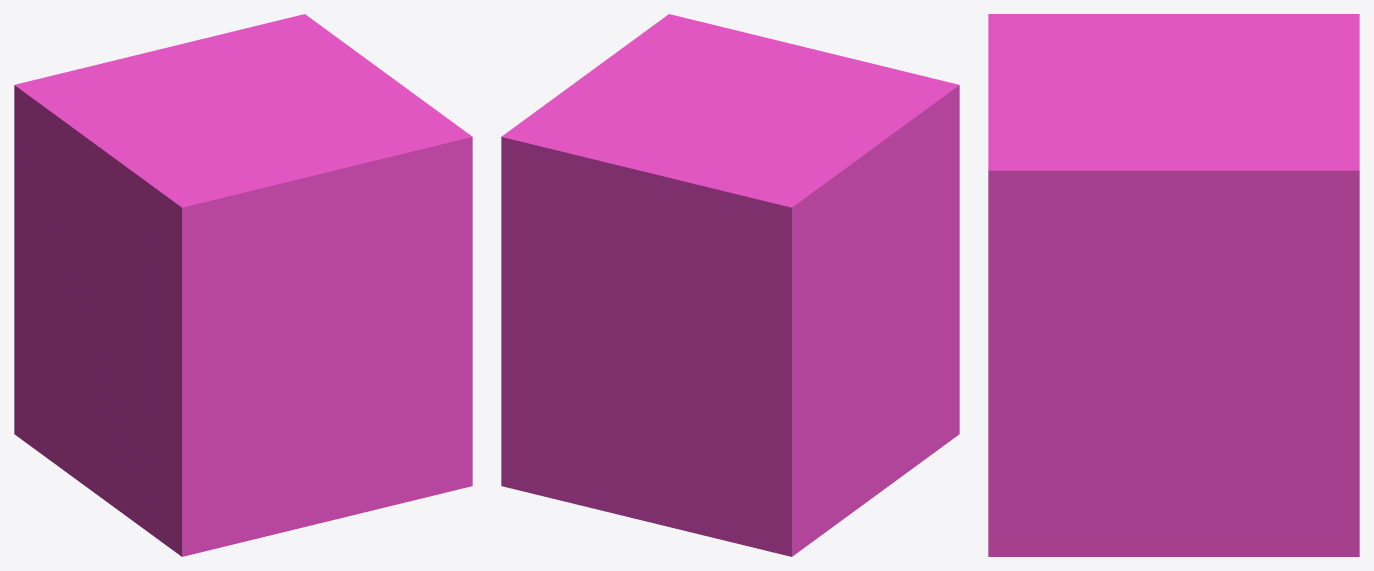
The model's file is decoy_beacon.glb.
The picture shows the model from 3 angles, left to right: view 1: azimuth 30°, elevation 25°; view 2: azimuth 150°, elevation 25°; view 3: azimuth 270°, elevation 25°; orthographic projection. The views are drawn at different scales.
Parts seen in each view (by area): view 1: COL_BOX_BODY; view 2: COL_BOX_BODY; view 3: COL_BOX_BODY.
Part boxes in pixels (box(x1,y1,x2,y2)): COL_BOX_BODY: box(14, 14, 472, 556); COL_BOX_BODY: box(501, 14, 959, 556); COL_BOX_BODY: box(988, 14, 1359, 556).
Size of the model in its own units: 1.28 by 1.47 by 1.28.
